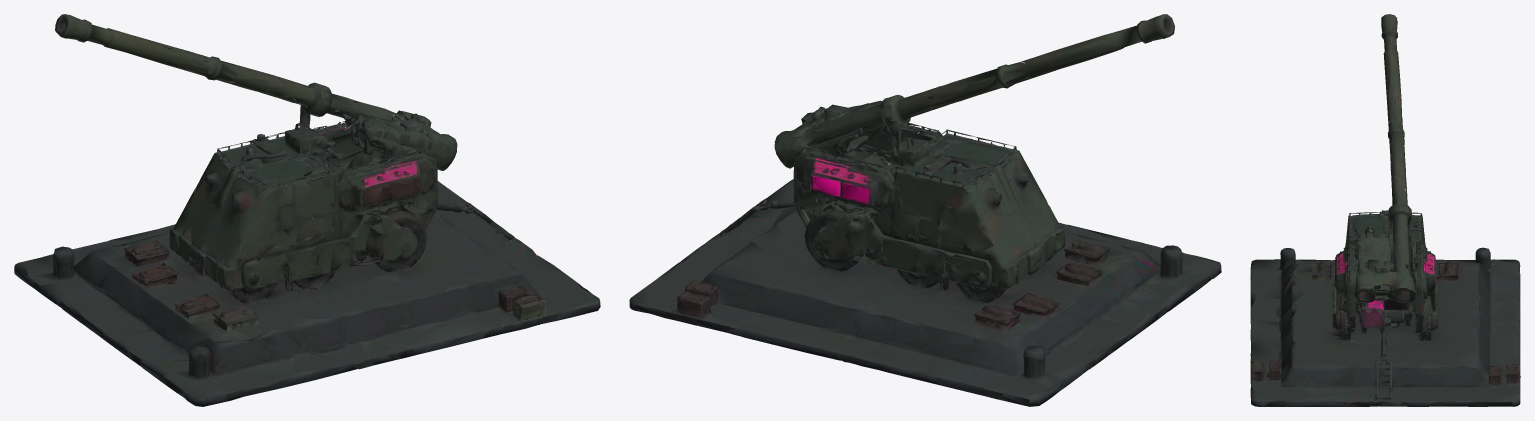
File: long_tom.glb
3 views of the same model, side by side, from view 1: azimuth 30°, elevation 25°; view 2: azimuth 150°, elevation 25°; view 3: azimuth 270°, elevation 25° (orthographic). The views are drawn at different scales.
Visible parts, largest first — view 1: Mesh_0; view 2: Mesh_0; view 3: Mesh_0.
Boxes of the visible parts, box(x1,y1,x2,y2) form: Mesh_0: box(14, 14, 600, 406); Mesh_0: box(629, 14, 1221, 406); Mesh_0: box(1250, 14, 1520, 406).
Size of the model in its own units: 1.9 by 1.34 by 1.38.
Materials: 1 (1 with a texture image).
